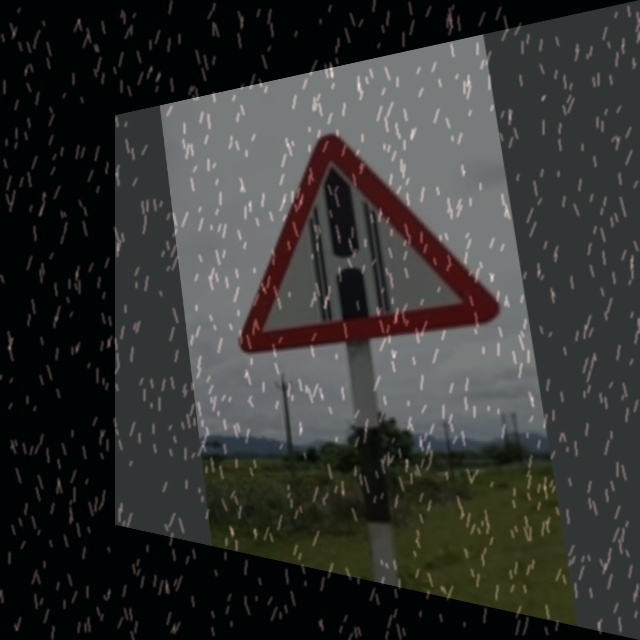Gap_in_Median: (216, 71, 499, 361)
